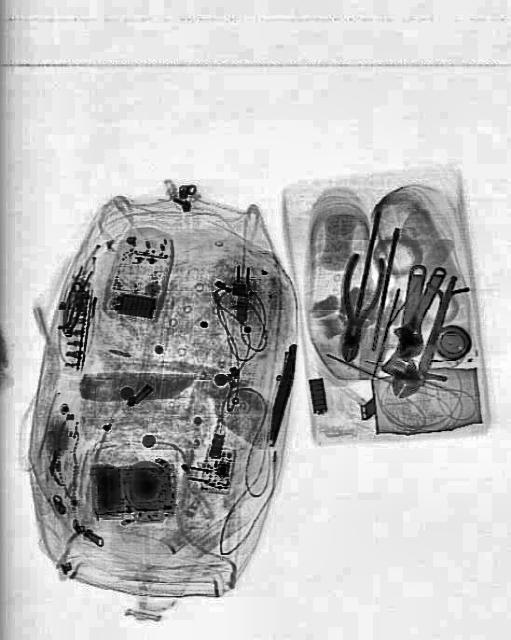Pliers: (328, 251, 386, 365)
Wrench: (378, 260, 440, 398), (385, 258, 455, 364)
